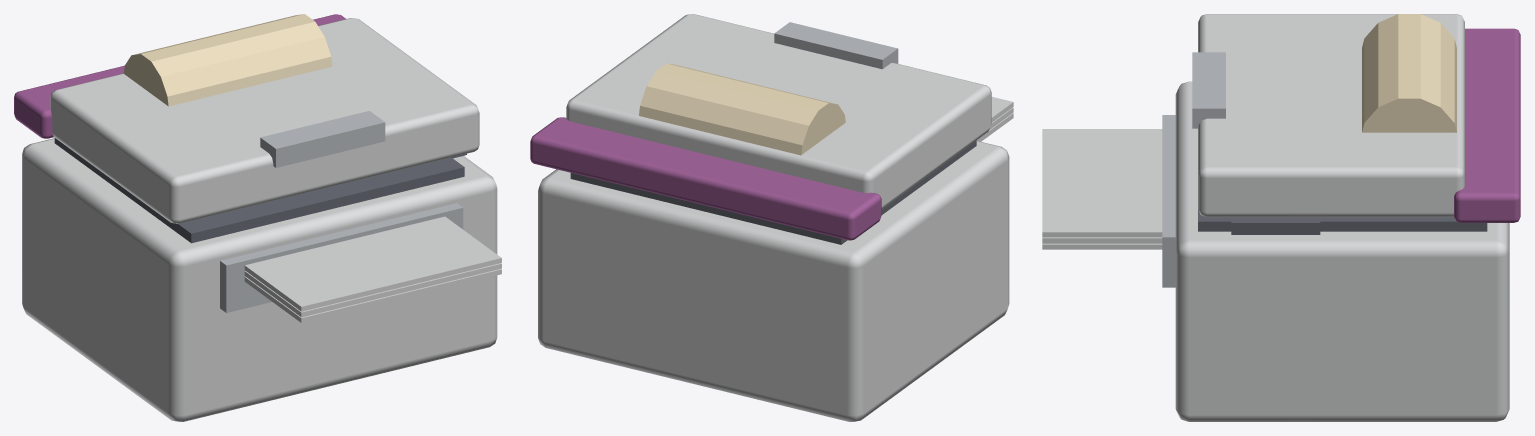
File: pharmacy-and-high-street-chemist-labelling-printer-e4ff2b55__37537.glb
The picture shows the model from 3 angles, left to right: view 1: azimuth 30°, elevation 25°; view 2: azimuth 150°, elevation 25°; view 3: azimuth 270°, elevation 25°; orthographic projection. The views are drawn at different scales.
Parts seen in each view (by area): view 1: labelling-printer, flap-printer/white, flap-printer/grey; view 2: labelling-printer, flap-printer/white, flap-printer/grey; view 3: labelling-printer, flap-printer/white, flap-printer/grey.
Boxes of the visible parts, x1,y1,x2,y2 form: labelling-printer: (14, 14, 501, 421); flap-printer/white: (50, 18, 479, 223); flap-printer/grey: (260, 111, 385, 167); labelling-printer: (530, 63, 1013, 421); flap-printer/white: (566, 14, 991, 209); flap-printer/grey: (774, 22, 898, 69); labelling-printer: (1042, 14, 1520, 421); flap-printer/white: (1198, 14, 1464, 217); flap-printer/grey: (1192, 52, 1225, 128).
Bounding box in the file's own units: 0.36 × 0.2839 × 0.43.
